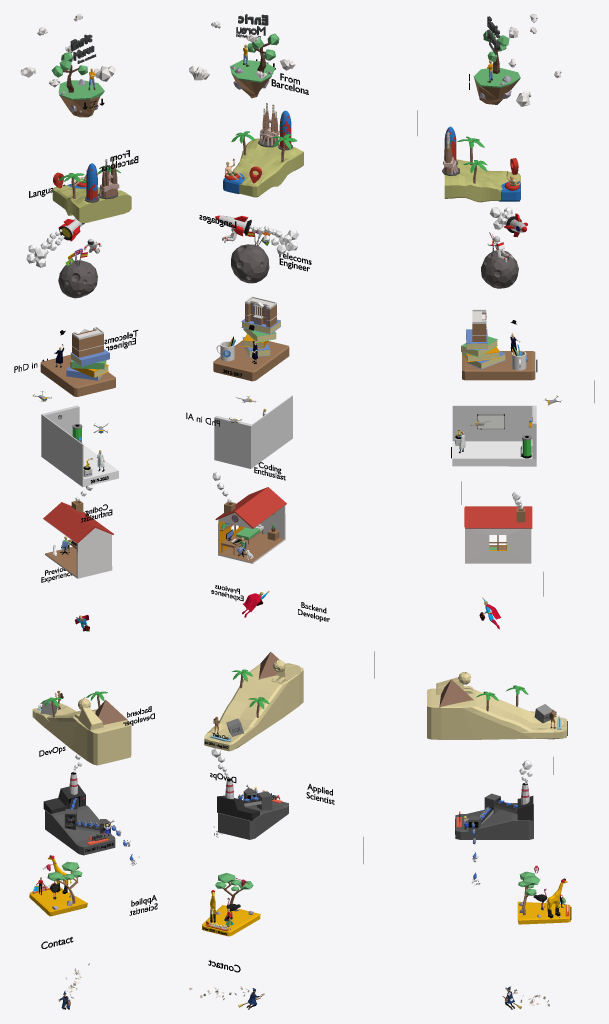
3 views of the same model, side by side, from view 1: azimuth 30°, elevation 25°; view 2: azimuth 150°, elevation 25°; view 3: azimuth 270°, elevation 25° (orthographic).
Visible parts, largest first — view 1: Cube.021, Cube.077, Cube.034, Cube.007, Cube.093, Cube.123, Icosphere.009, Cylinder, Cube.029, Cube.016, Cube.094, Cylinder.004 (+6 smaller); view 2: Cube.077, Cube.034, Cube.021, Cube.007, Cube.123, Cube.093, Icosphere.009, Cylinder, Cube.029, Cube.016, Cube.094, Cylinder.004 (+2 smaller); view 3: Cube.077, Cube.034, Cube.021, Cube.007, Cube.093, Cube.123, Cylinder, Icosphere.009, Cube.029.
Boxes of the visible parts, x1=… form: Cube.021: x1=43, y1=502, x2=113, y2=578; Cube.077: x1=32, y1=703, x2=131, y2=765; Cube.034: x1=41, y1=405, x2=118, y2=487; Cube.007: x1=52, y1=185, x2=131, y2=223; Cube.093: x1=45, y1=805, x2=115, y2=855; Cube.123: x1=40, y1=354, x2=115, y2=396; Icosphere.009: x1=58, y1=260, x2=97, y2=298; Cylinder: x1=58, y1=80, x2=104, y2=117; Cube.029: x1=29, y1=887, x2=87, y2=916; Cube.016: x1=72, y1=327, x2=103, y2=357; Cube.094: x1=43, y1=784, x2=85, y2=814; Cylinder.004: x1=97, y1=157, x2=119, y2=199; Cube.077: x1=204, y1=664, x2=303, y2=751; Cube.034: x1=214, y1=395, x2=292, y2=468; Cube.021: x1=215, y1=487, x2=286, y2=563; Cube.007: x1=233, y1=138, x2=303, y2=197; Cube.123: x1=213, y1=340, x2=289, y2=381; Cube.093: x1=218, y1=800, x2=288, y2=839; Icosphere.009: x1=231, y1=244, x2=269, y2=283; Cylinder: x1=230, y1=60, x2=274, y2=98; Cube.029: x1=202, y1=905, x2=260, y2=936; Cube.016: x1=244, y1=296, x2=276, y2=327; Cube.094: x1=217, y1=795, x2=259, y2=820; Cylinder.004: x1=258, y1=103, x2=279, y2=147; Cube.077: x1=427, y1=688, x2=566, y2=739; Cube.034: x1=452, y1=405, x2=536, y2=466; Cube.021: x1=464, y1=506, x2=532, y2=563; Cube.007: x1=444, y1=159, x2=520, y2=202; Cube.093: x1=455, y1=803, x2=533, y2=839; Cube.123: x1=462, y1=351, x2=535, y2=380; Cylinder: x1=473, y1=67, x2=520, y2=104; Icosphere.009: x1=481, y1=250, x2=518, y2=288; Cube.029: x1=517, y1=901, x2=570, y2=924.
Size of the model in its own units: 13.87 by 129 by 27.39.
